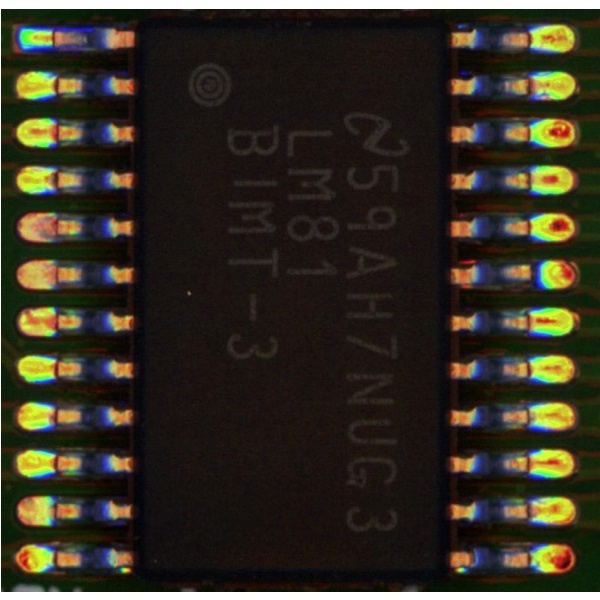Bad_podu: (514, 313, 547, 329), (512, 456, 539, 471), (514, 505, 541, 520), (516, 80, 539, 95), (45, 362, 68, 376), (48, 314, 69, 329), (43, 129, 69, 141), (46, 221, 70, 234), (45, 172, 63, 188), (38, 32, 61, 44), (44, 457, 65, 470), (46, 269, 66, 282), (44, 411, 64, 424)
